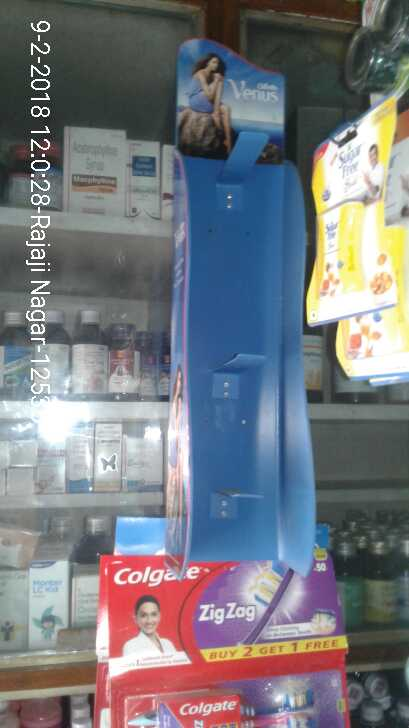reject: (190, 246, 294, 393)
